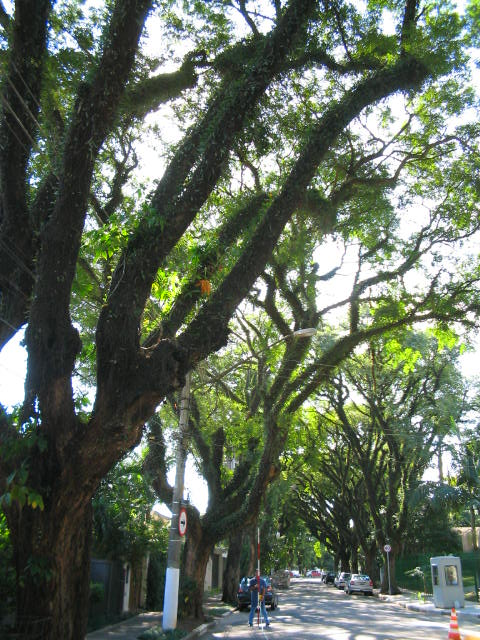stem: (4, 505, 136, 640), (172, 536, 222, 622)
stick: (253, 527, 263, 627)
tree: (1, 1, 408, 639), (129, 250, 420, 625)
